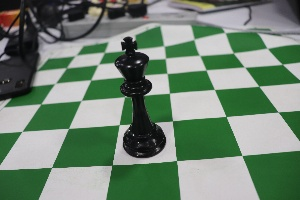black_king: (102, 23, 173, 164)
